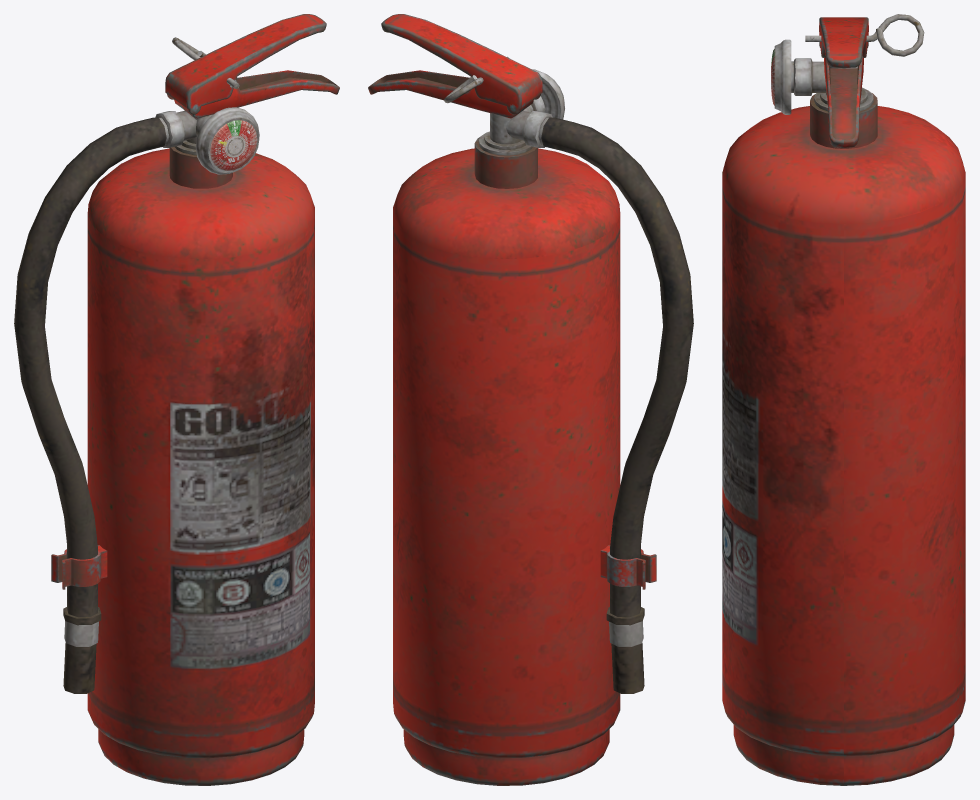
The model's file is extinguisher.FBX.
3 renders of one model, left to right at view 1: azimuth 30°, elevation 25°; view 2: azimuth 150°, elevation 25°; view 3: azimuth 270°, elevation 25°, orthographic. The views are drawn at different scales.
Visible parts, largest first — view 1: SM_Extinguisher; view 2: SM_Extinguisher; view 3: SM_Extinguisher.
Boxes of the visible parts, <box> form: SM_Extinguisher: <box>14,14,339,785</box>; SM_Extinguisher: <box>368,14,693,785</box>; SM_Extinguisher: <box>722,14,965,785</box>.
Bounding box in the file's own units: 28.54 × 59.52 × 17.6.
1 material, 1 textured.
